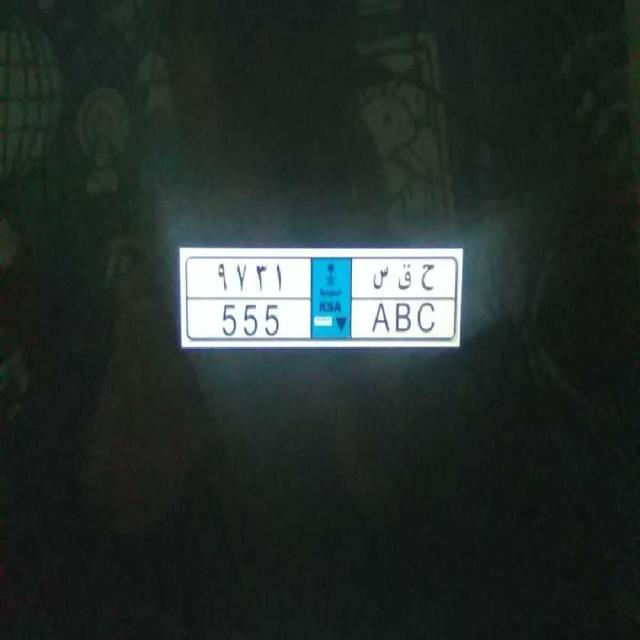license_plate: (194, 298, 446, 342)
